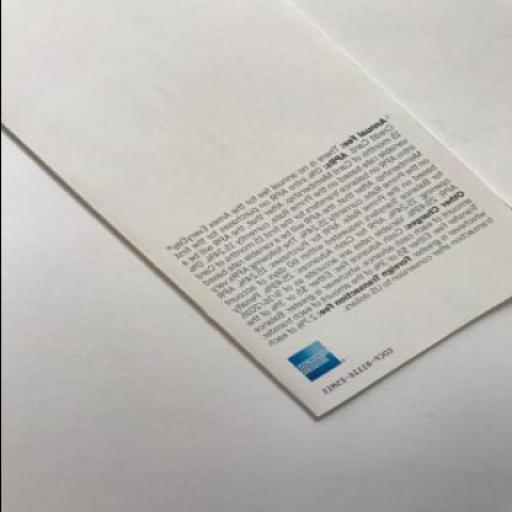paper: (1, 0, 511, 421)
